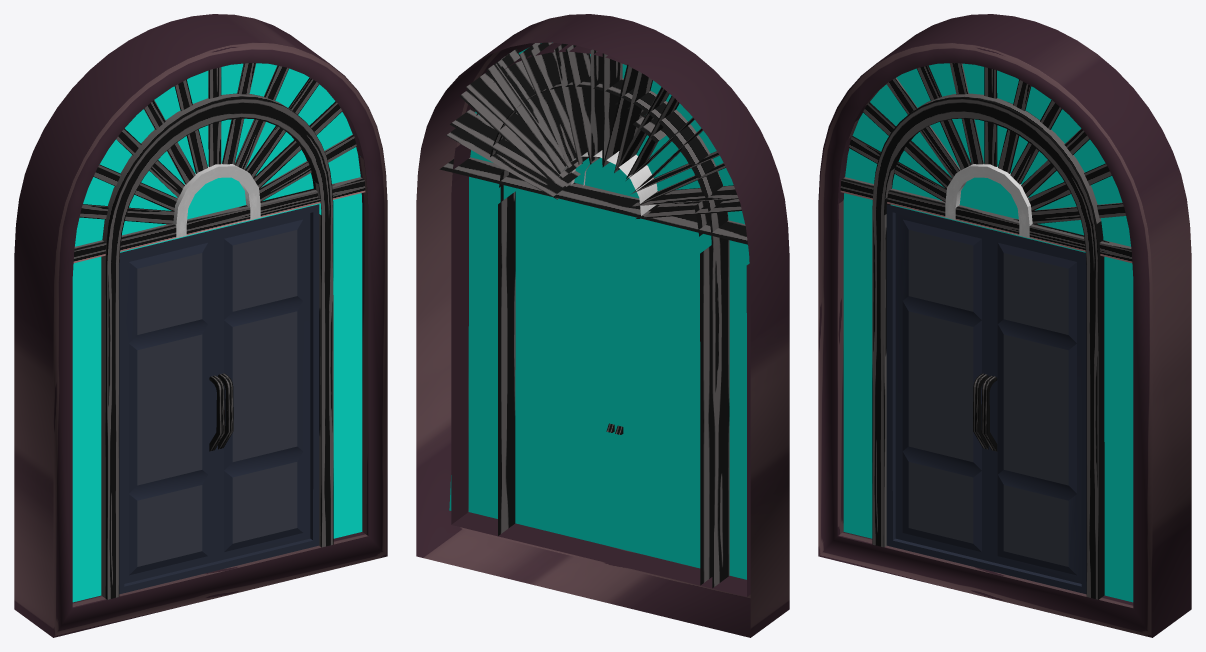
Rendered from MainDoor.fbx.
The picture shows the model from 3 angles, left to right: view 1: azimuth 30°, elevation 25°; view 2: azimuth 150°, elevation 25°; view 3: azimuth 330°, elevation 25°; orthographic projection.
Visible parts, largest first — view 1: MainDoor; view 2: MainDoor; view 3: MainDoor.
Part boxes in pixels (bbox=[...]): MainDoor: bbox=[14, 14, 387, 637]; MainDoor: bbox=[416, 14, 789, 637]; MainDoor: bbox=[818, 14, 1191, 637].
Size of the model in its own units: 327 by 514 by 75.93.
